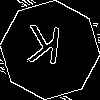K: (25, 25, 63, 74)
